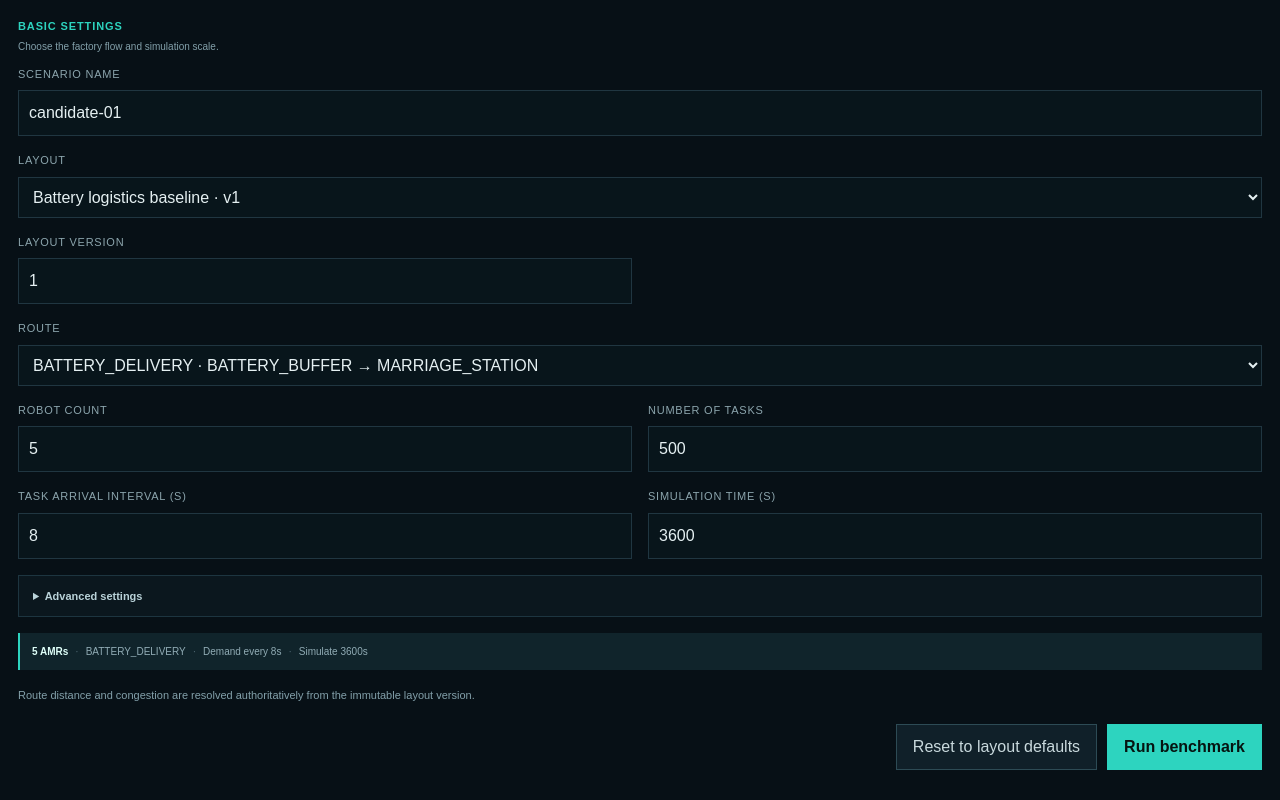
ScenarioRunForm › resets edited values and summary to layout defaults
The image size is (1280, 800).
Replace the text in the number field labelled "Robot count" with "3" at (325, 449), box [18,426,632,472]
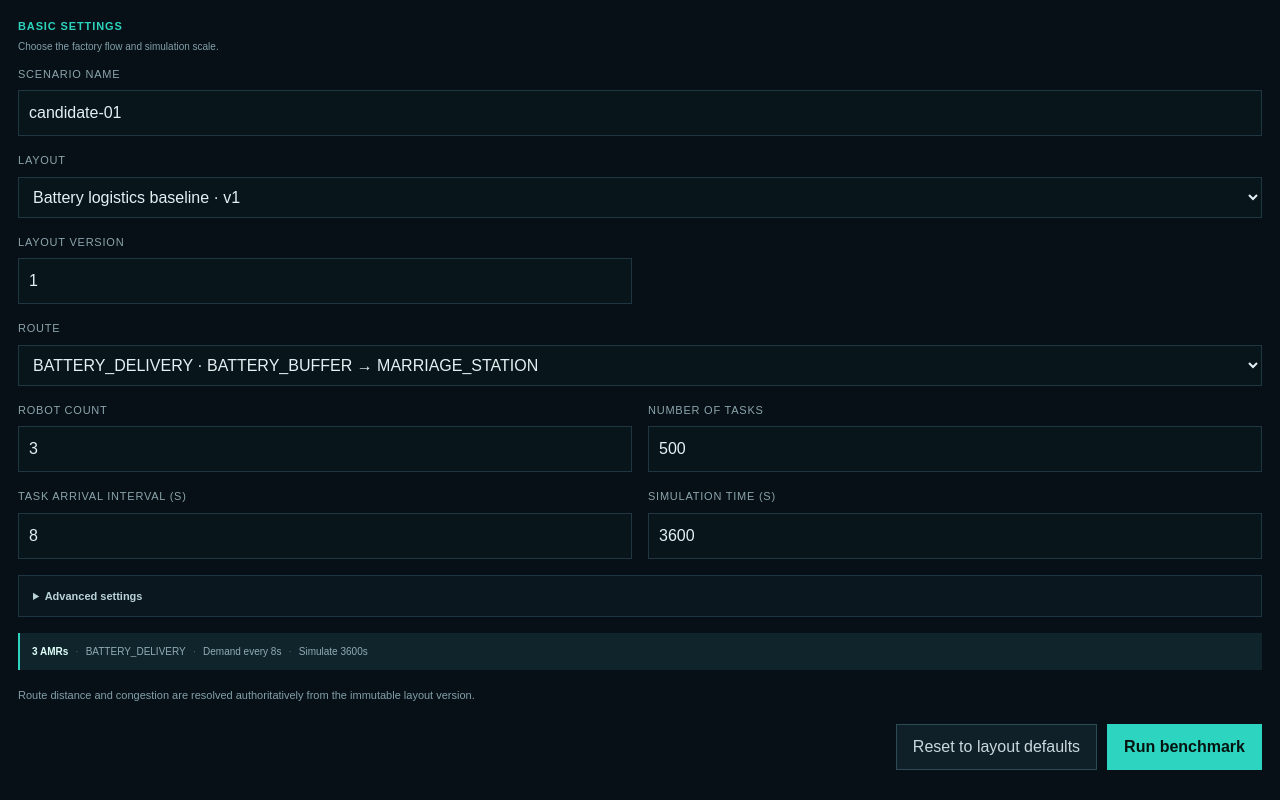
Now the element named "Simulation summary" shows "3 AMRs", box [18,633,1262,670]
Click the button "Reset to layout defaults" at (996, 746), box [896,724,1097,770]
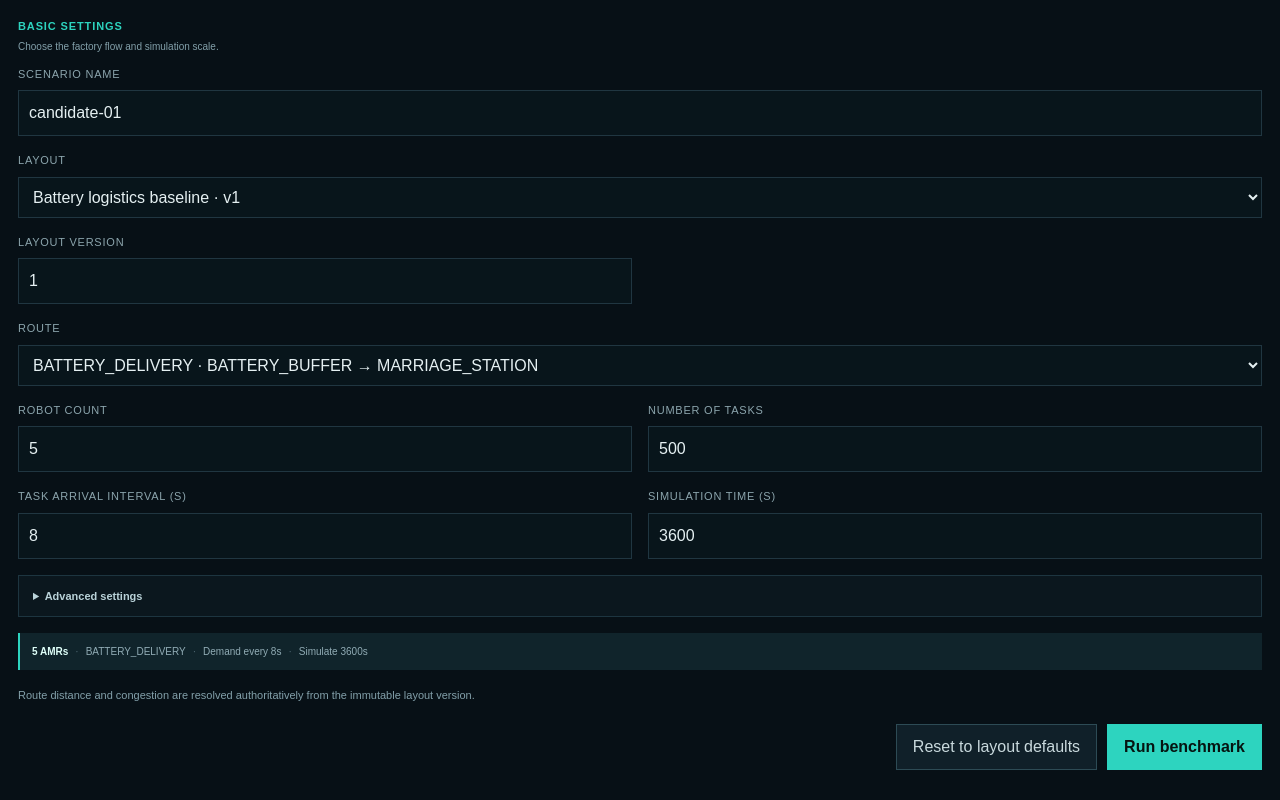
Now the number field labelled "Robot count" holds "5", box [18,426,632,472]
Now the element named "Simulation summary" shows "5 AMRs", box [18,633,1262,670]
